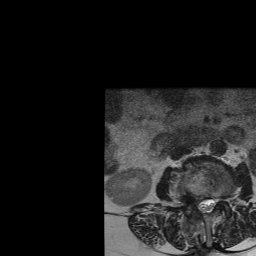CCS_stenosis: (202, 191, 209, 218)
LFS_stenosis: (216, 191, 224, 208)
LLS_normal: (209, 191, 216, 215)
RFS_severe_stenosis: (188, 190, 196, 210)
RLS_normal: (196, 192, 202, 215)
